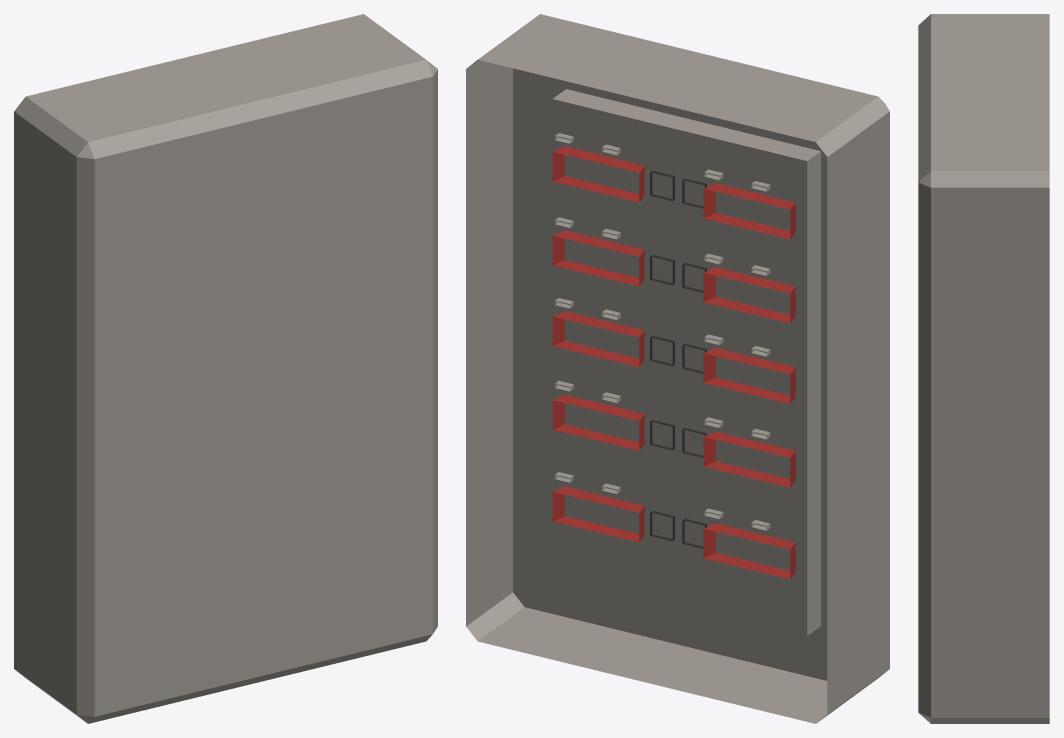
The model's file is jsmith_breakerBox.fbx.
3 renders of one model, left to right at view 1: azimuth 30°, elevation 25°; view 2: azimuth 150°, elevation 25°; view 3: azimuth 270°, elevation 25°, orthographic. The views are drawn at different scales.
Parts seen in each view (by area): view 1: polySurface66, polySurface33; view 2: polySurface33, polySurface66, polySurface15, polySurface20, polySurface14, polySurface17, polySurface18, polySurface21, polySurface22, polySurface25, polySurface23, polySurface24; view 3: polySurface33, polySurface66.
Boxes of the visible parts, box(x1,y1,x2,y2) form: polySurface66: box(61, 48, 437, 723); polySurface33: box(14, 14, 410, 710); polySurface33: box(466, 25, 874, 723); polySurface66: box(513, 14, 889, 687); polySurface15: box(552, 230, 644, 286); polySurface20: box(552, 146, 644, 202); polySurface14: box(703, 267, 795, 323); polySurface17: box(552, 486, 644, 542); polySurface18: box(703, 523, 795, 579); polySurface21: box(703, 183, 795, 239); polySurface22: box(703, 348, 795, 403); polySurface25: box(552, 394, 644, 450); polySurface23: box(552, 311, 644, 367); polySurface24: box(703, 431, 795, 487); polySurface33: box(960, 14, 1049, 723); polySurface66: box(918, 14, 960, 723).
Bounding box in the file's own units: 4.31 × 6.63 × 1.43.
